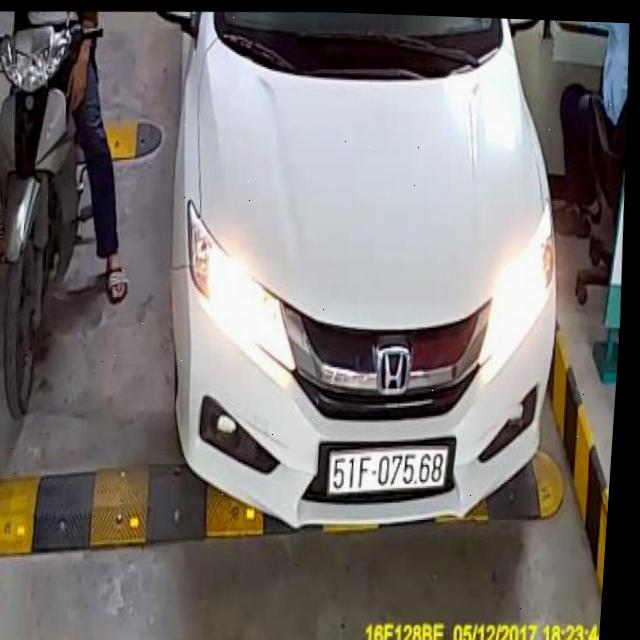car: (113, 5, 598, 547)
motorcycle: (0, 17, 142, 437)
plate: (322, 441, 451, 503)
